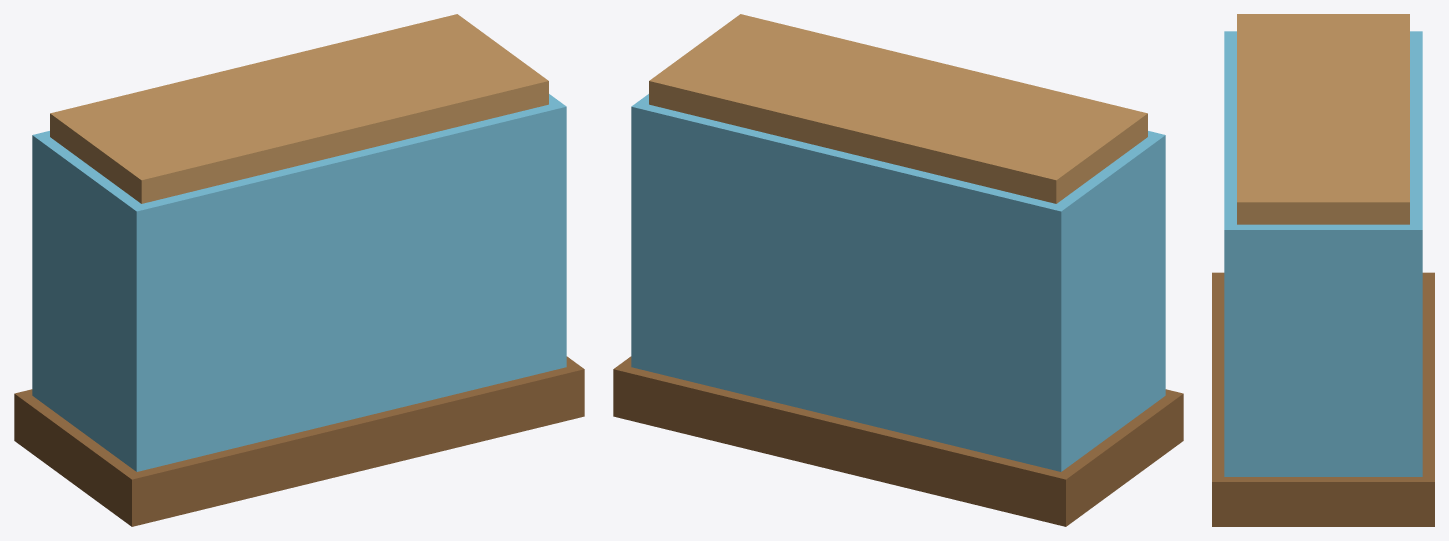
File: aquarium.glb
3 views of the same model, side by side, from view 1: azimuth 30°, elevation 25°; view 2: azimuth 150°, elevation 25°; view 3: azimuth 270°, elevation 25° (orthographic). The views are drawn at different scales.
Parts seen in each view (by area): view 1: aquarium; view 2: aquarium; view 3: aquarium.
Boxes of the visible parts, <box> form: aquarium: <box>14,14,584,526</box>; aquarium: <box>613,14,1183,526</box>; aquarium: <box>1212,14,1434,526</box>.
Bounding box in the file's own units: 40 × 28 × 18.
